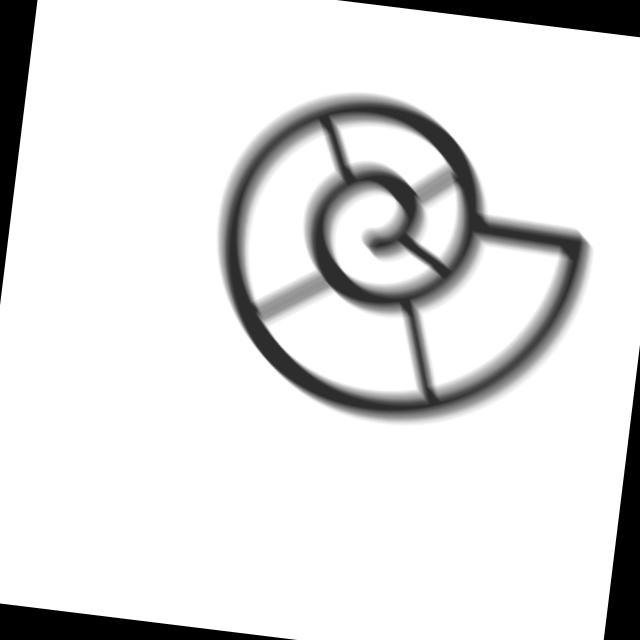fossil: (191, 72, 613, 454)
